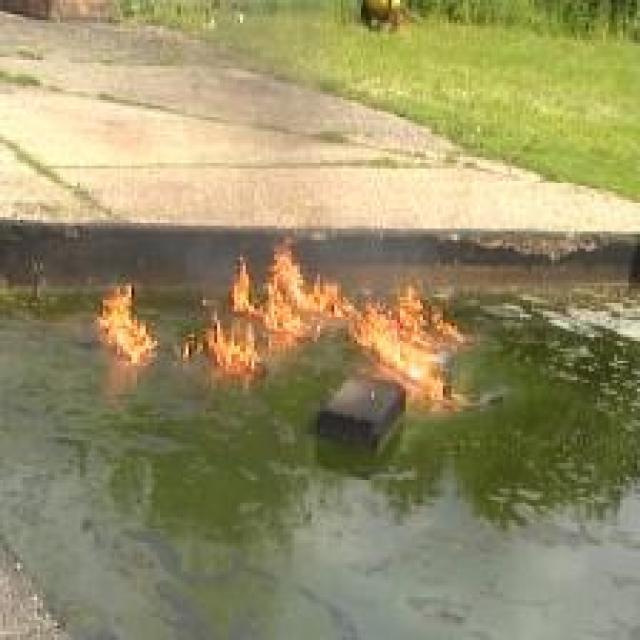Fire: (353, 280, 473, 409), (228, 238, 354, 336), (178, 316, 270, 384), (98, 280, 158, 360)
